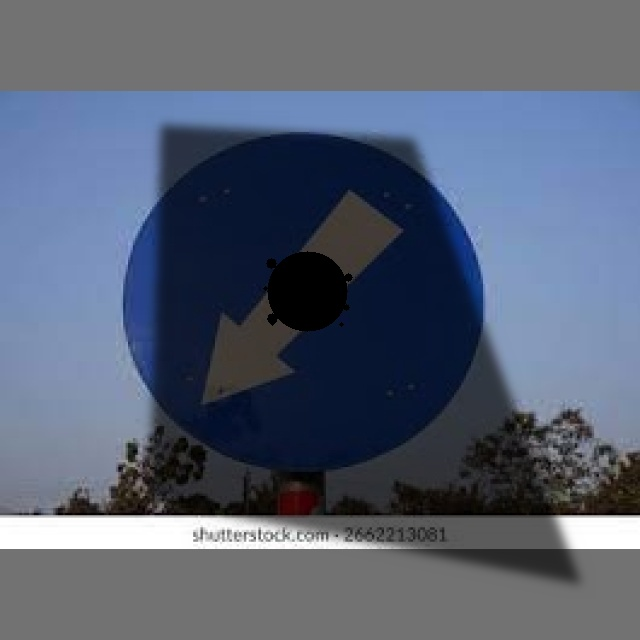Compulsory_Keep_Left: (126, 137, 474, 457)
